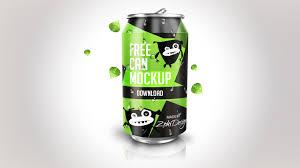Aluminum can: (110, 10, 204, 159)
